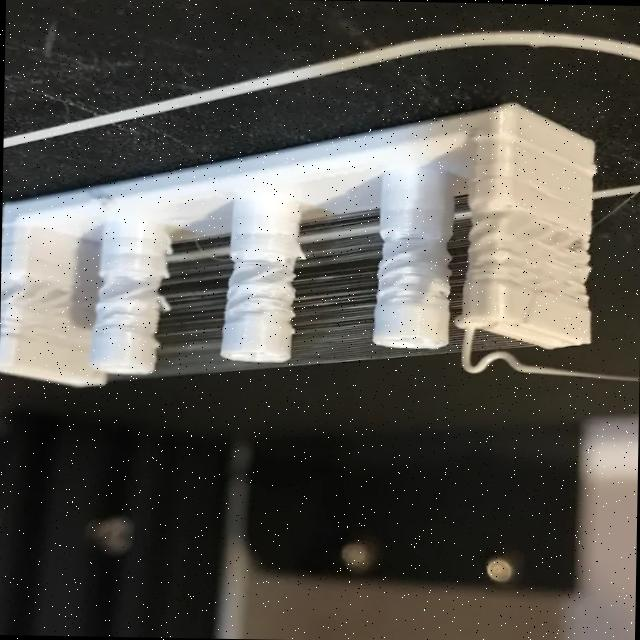stringing: (102, 195, 546, 383)
